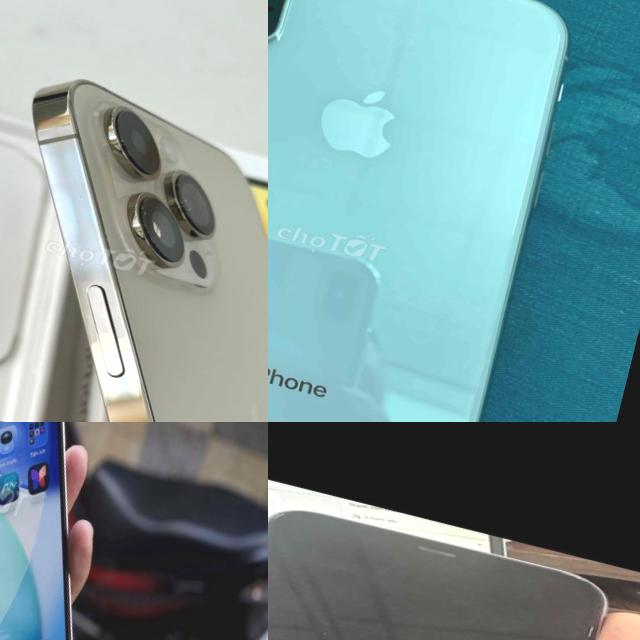gen_11: (268, 509, 605, 640)
gen_14: (0, 51, 268, 422)
gen_17: (0, 422, 171, 640)
gen_x_xs: (268, 0, 602, 422)
scratch: (554, 566, 606, 594), (268, 500, 293, 524), (313, 628, 345, 640)
